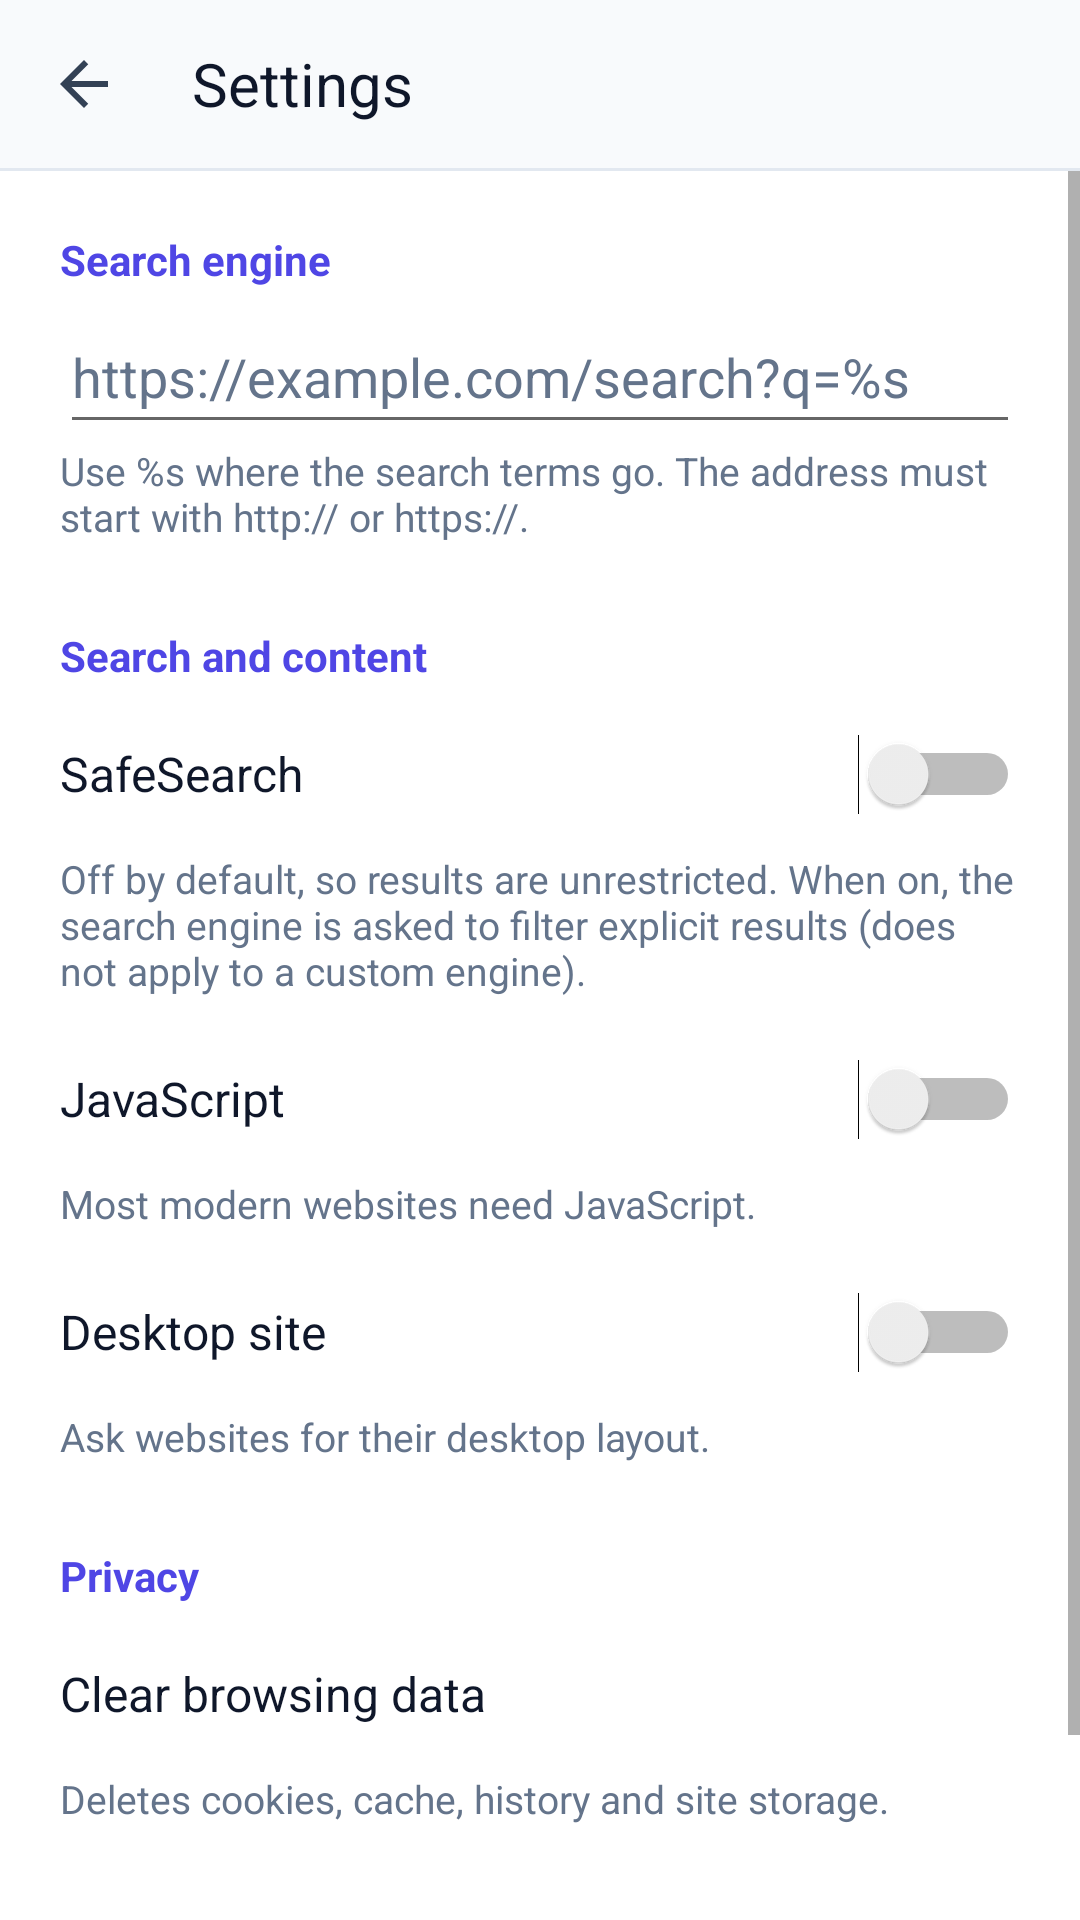

Icon click points for this 1080w x 1920h phone screenshot, format (x=x, y=y):
Navigate up: (x=84, y=84)
